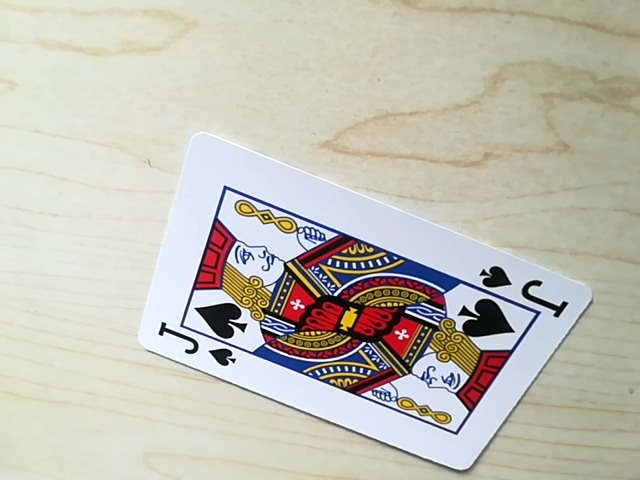ht j: (468, 259, 567, 303), (154, 330, 243, 368)
